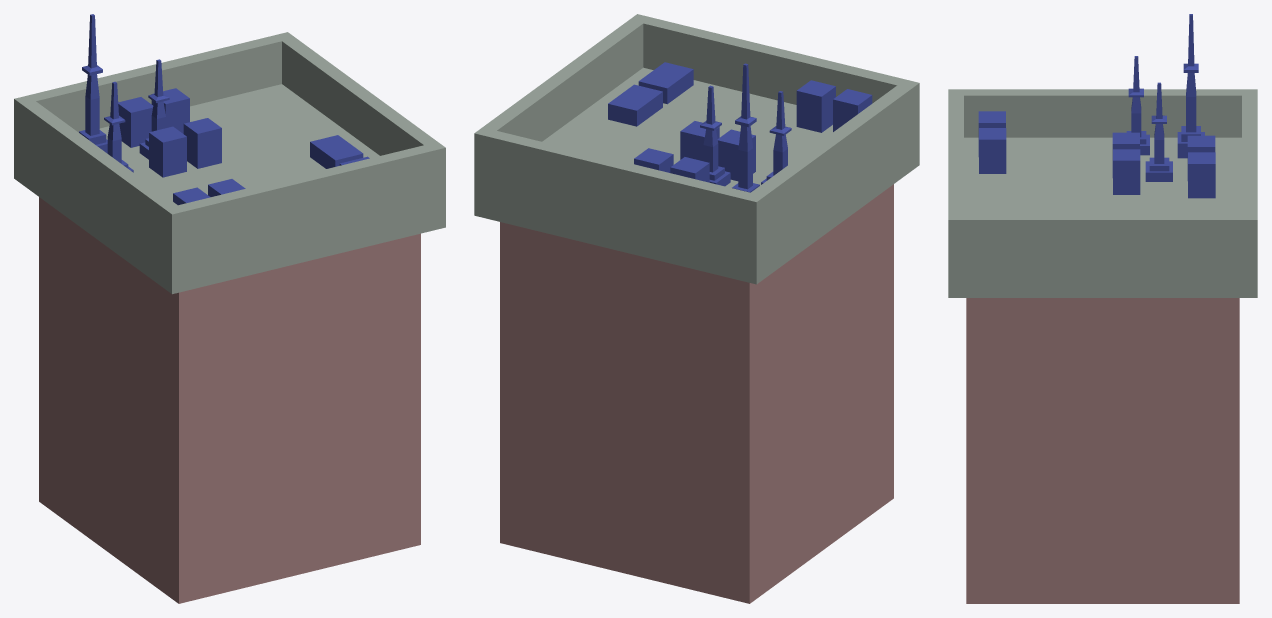
Rendered from Building_B1.fbx.
3 views of the same model, side by side, from view 1: azimuth 30°, elevation 25°; view 2: azimuth 150°, elevation 25°; view 3: azimuth 270°, elevation 25° (orthographic). The views are drawn at different scales.
Visible parts, largest first — view 1: BuildingA4; view 2: BuildingA4; view 3: BuildingA4.
Boxes of the visible parts, bbox=[...] form: BuildingA4: bbox=[14, 14, 445, 603]; BuildingA4: bbox=[474, 14, 919, 603]; BuildingA4: bbox=[948, 14, 1257, 603].
Bounding box in the file's own units: 6.81 × 11.83 × 6.81.
